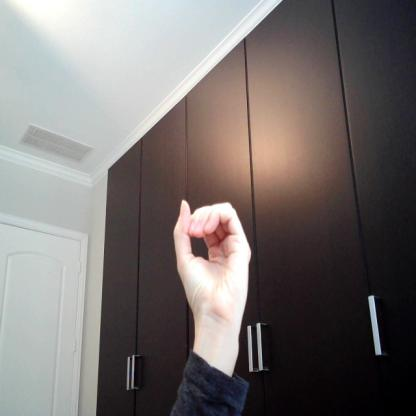zero: (170, 196, 256, 318)
